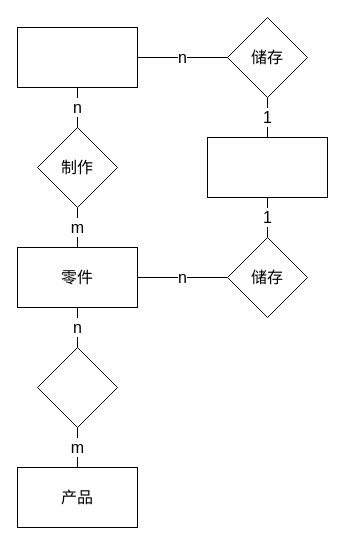
Some shapes in this 345 by 545 pixel diagram are drawn without their labels. Here are the shapes that lost their labels. From the top down, the centre of each, then its label:
At point (77, 57): "原料".
At point (267, 167): "仓库".
At point (77, 387): "组成".
